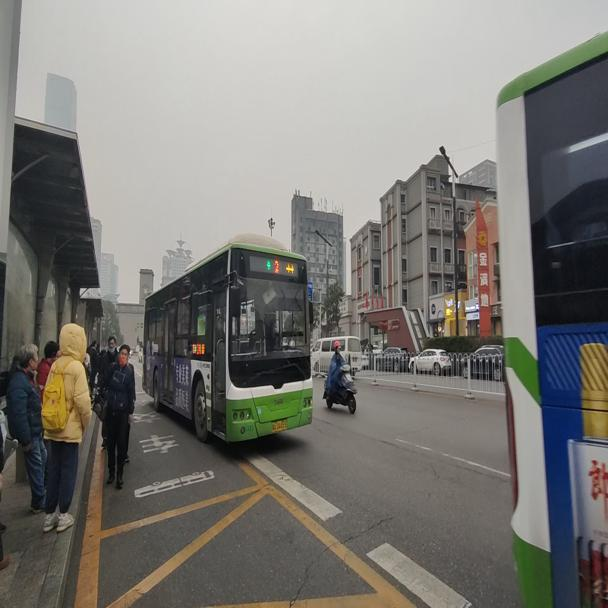bus: (495, 28, 605, 601), (142, 234, 314, 445)
screen: (271, 256, 280, 271)
